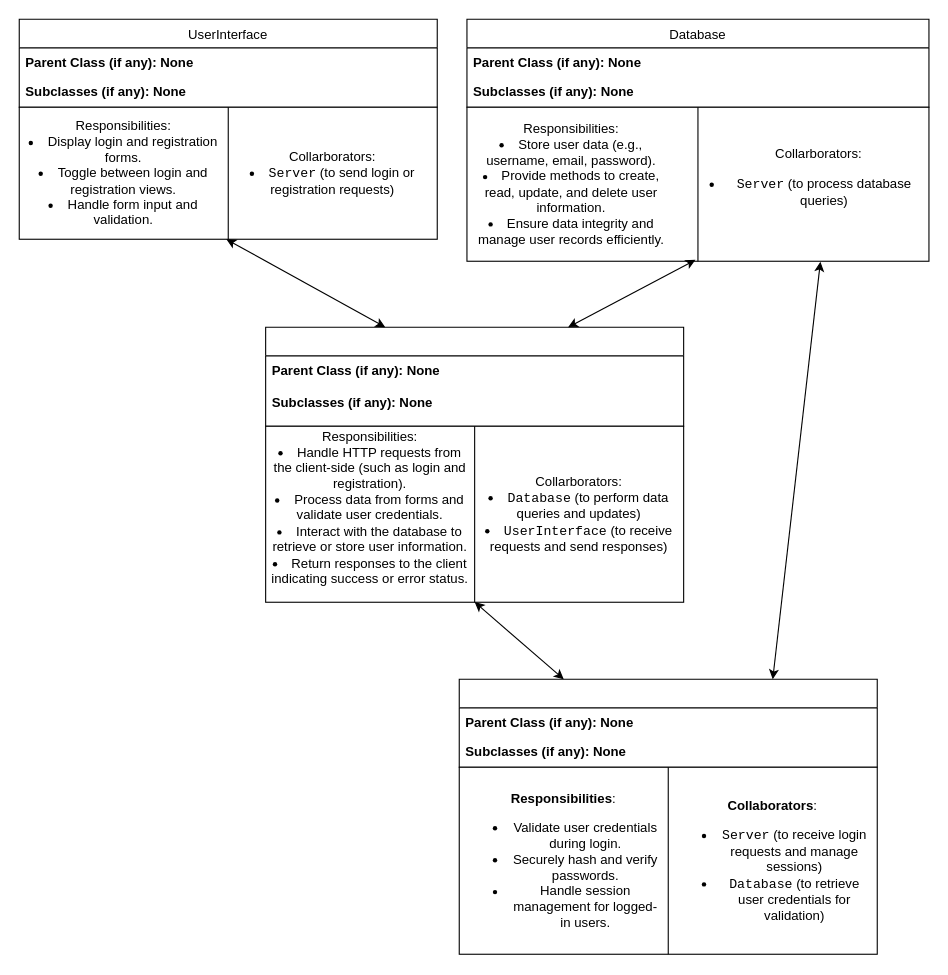
Some shapes in this 948 by 975 pixel diagram are drawn without their labels. The shapes that lost their labels are listed below. From the top down, each one's box as (x1, y1, x2, y2) in pixels, then its label:
(265, 326, 684, 426): Server
(458, 678, 877, 767): UserAuthentication
